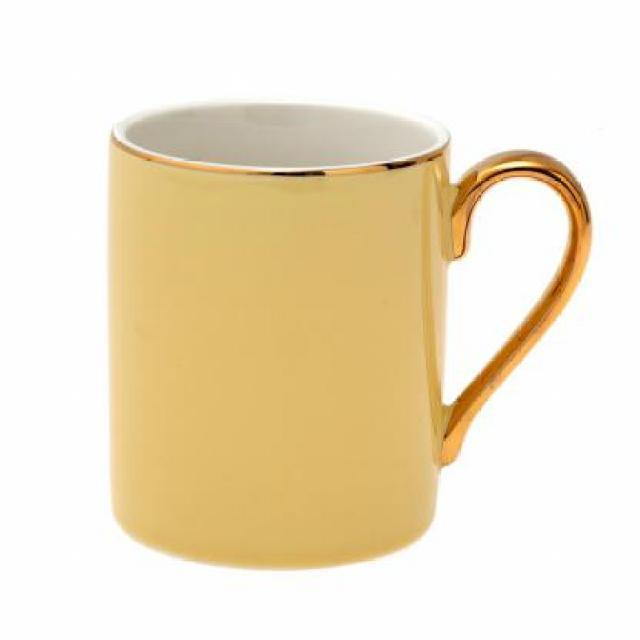taza: (104, 98, 592, 574)
